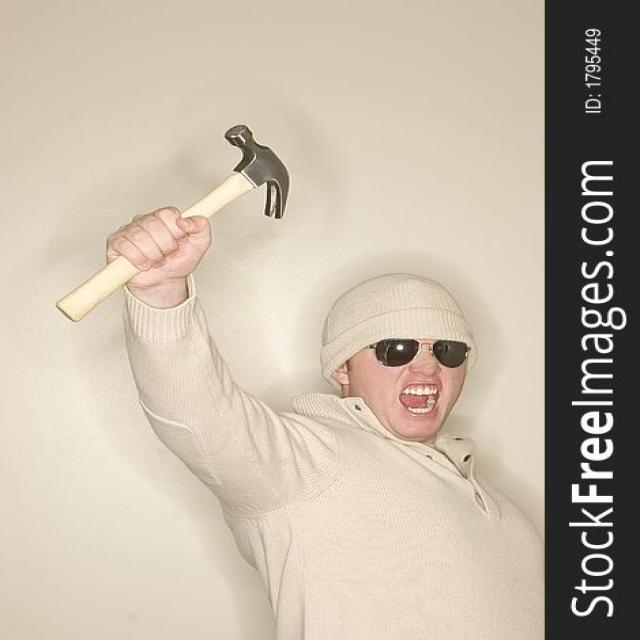hammer: (46, 119, 300, 328)
